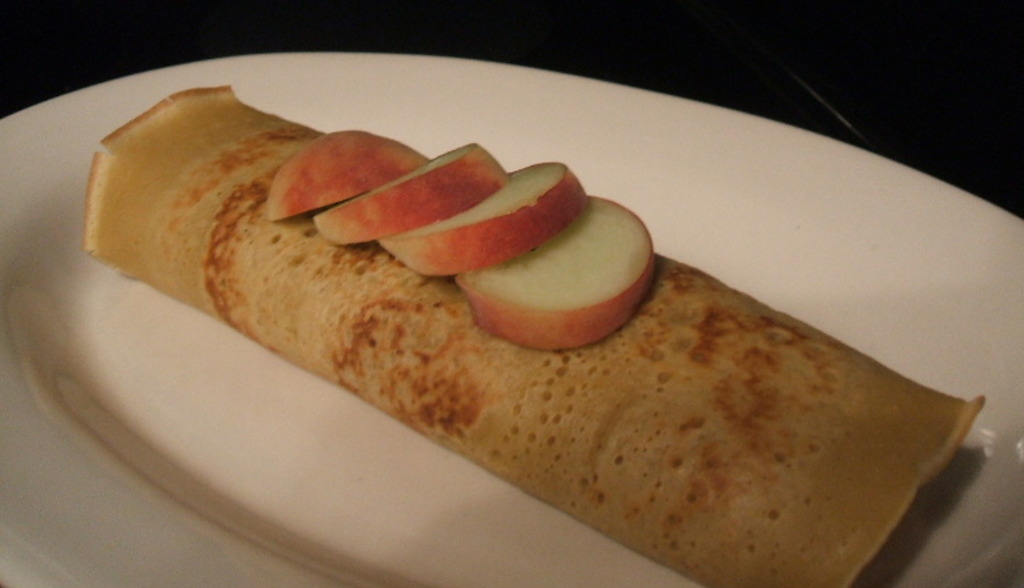Apple: (375, 158, 587, 275), (313, 137, 507, 246), (459, 201, 608, 337), (267, 126, 430, 220)
